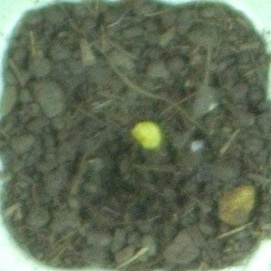pepper seed: (47, 44, 213, 196)
